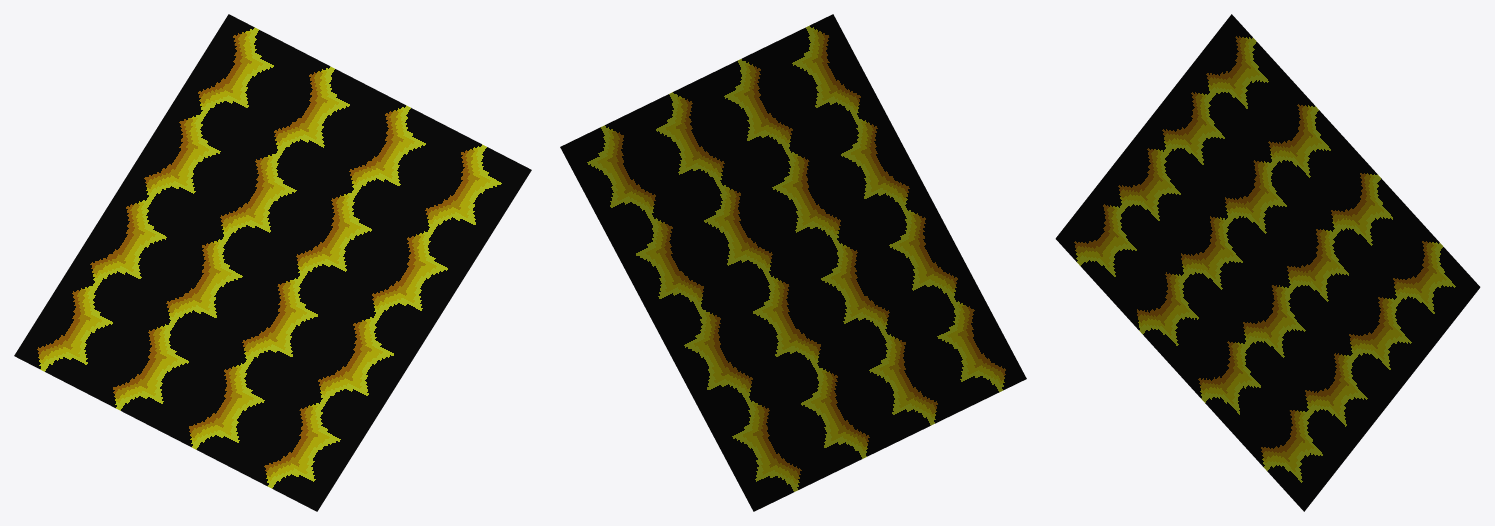
The picture shows the model from 3 angles, left to right: view 1: azimuth 30°, elevation 25°; view 2: azimuth 150°, elevation 25°; view 3: azimuth 330°, elevation 25°; orthographic projection. The views are drawn at different scales.
Parts seen in each view (by area): view 1: ef_011; view 2: ef_011; view 3: ef_011.
Part boxes in pixels (left/top/right/bottom): ef_011: left=14, top=14, right=531, bottom=511; ef_011: left=560, top=14, right=1026, bottom=511; ef_011: left=1055, top=14, right=1480, bottom=511.
Bounding box in the file's own units: 0.8462 × 0.8511 × 0.0869.
Materials: 1 (1 with a texture image).
